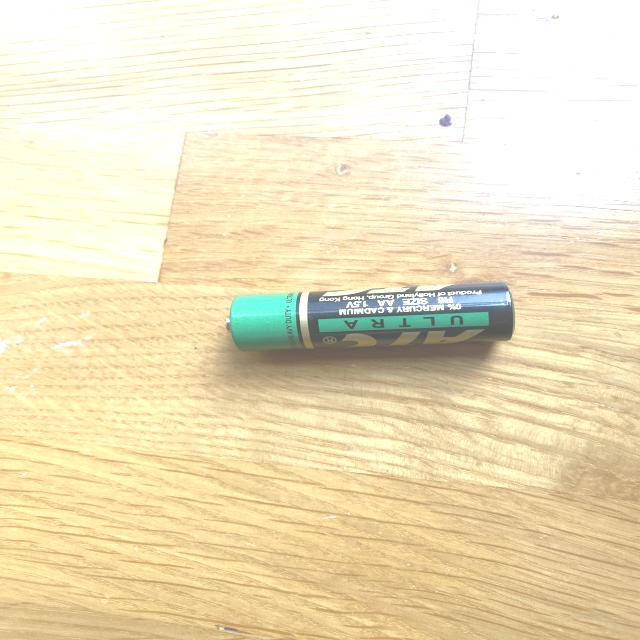AA: (219, 278, 521, 355)
